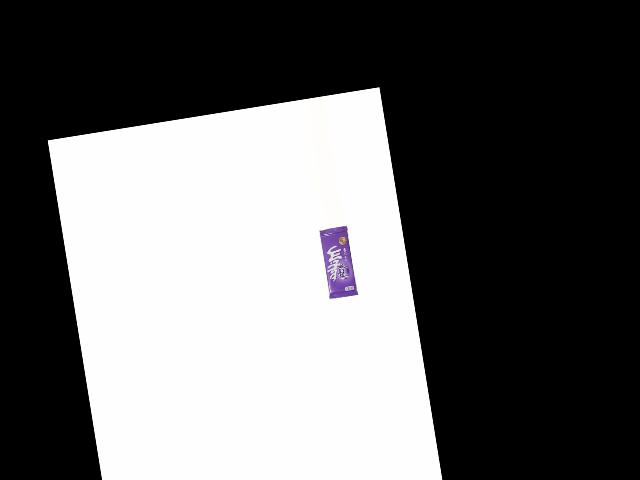chocolate: (317, 224, 362, 303)
